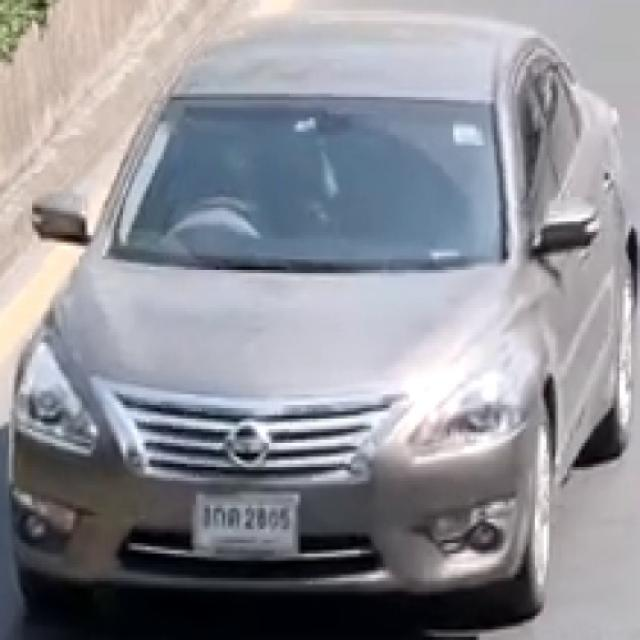plate: (191, 494, 302, 553)
